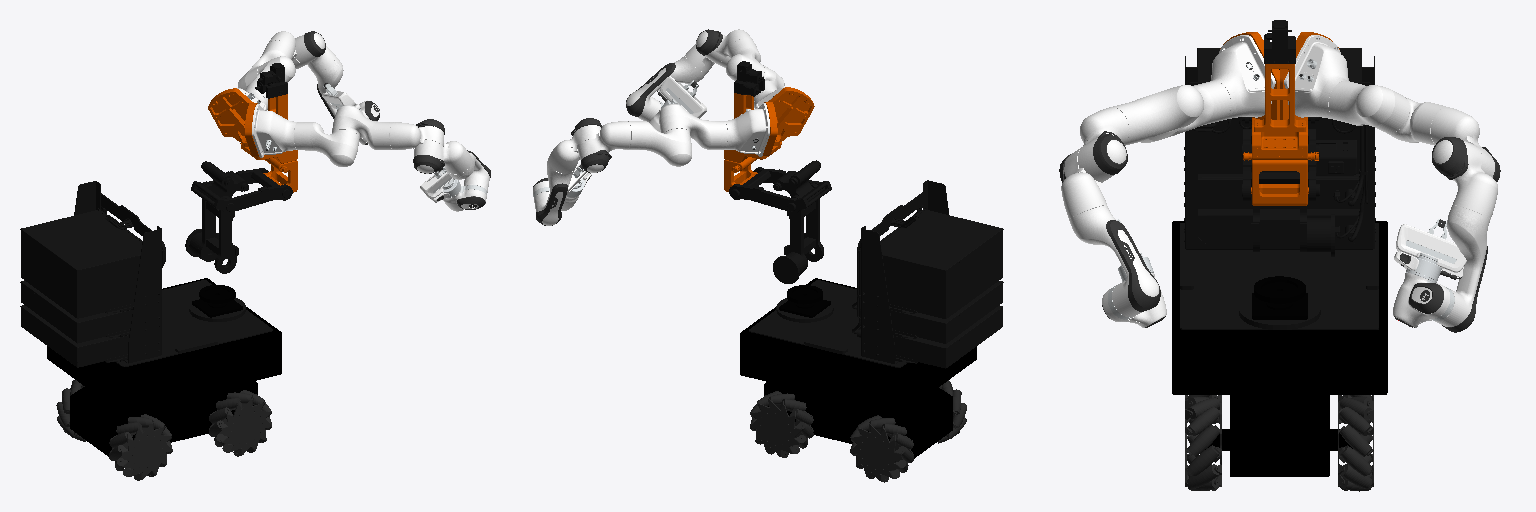
--- Render facts (derived) ---
The picture shows the robot from 3 angles, left to right: view 1: azimuth 30°, elevation 25°; view 2: azimuth 150°, elevation 25°; view 3: azimuth 270°, elevation 25°; orthographic projection.
Model curi with 40 links and 39 joints (14 revolute, 4 continuous, 4 prismatic, 16 fixed, 1 floating), rooted at world, posed all joints at 0 but 2 set to mid-range because 0 is outside their limits (panda_left_joint4 = -1.57, panda_right_joint4 = -1.57).
Visible links, largest first — view 1: control_box, summit_xls_base_link, torso_end, summit_xls_back_right_wheel_link, summit_xls_front_right_wheel_link, torso_link_b2, torso_link_c1, panda_right_link1, panda_right_link0, panda_right_link4, panda_right_link2, panda_right_link3 (+9 smaller); view 2: control_box, summit_xls_base_link, torso_end, summit_xls_back_left_wheel_link, summit_xls_front_left_wheel_link, torso_link_b2, torso_link_c1, panda_left_link2, panda_right_link5, panda_left_link1, panda_left_link0, panda_left_link3 (+8 smaller); view 3: control_box, summit_xls_base_link, torso_end, panda_right_link5, panda_left_link5, panda_right_link0, panda_left_link0, summit_xls_front_right_wheel_link, panda_right_link2, panda_left_link4, summit_xls_front_left_wheel_link, panda_left_link1 (+13 smaller).
Link boxes in pixels (<box>): control_box: <box>20,181,272,367</box>; summit_xls_base_link: <box>47,278,281,456</box>; torso_end: <box>208,88,297,192</box>; summit_xls_back_right_wheel_link: <box>109,414,172,480</box>; summit_xls_front_right_wheel_link: <box>209,390,271,456</box>; torso_link_b2: <box>185,184,238,273</box>; torso_link_c1: <box>191,168,292,213</box>; panda_right_link1: <box>294,122,359,166</box>; panda_right_link0: <box>252,104,296,157</box>; panda_right_link4: <box>413,140,470,173</box>; panda_right_link2: <box>332,105,392,149</box>; panda_right_link3: <box>390,119,444,149</box>; control_box: <box>749,180,1003,368</box>; summit_xls_base_link: <box>740,278,976,458</box>; torso_end: <box>724,87,814,191</box>; summit_xls_back_left_wheel_link: <box>850,415,913,482</box>; summit_xls_front_left_wheel_link: <box>750,391,813,457</box>; torso_link_b2: <box>773,183,823,283</box>; torso_link_c1: <box>729,167,831,213</box>; panda_left_link2: <box>628,121,691,166</box>; panda_right_link5: <box>626,54,706,121</box>; panda_left_link1: <box>659,104,727,149</box>; panda_left_link0: <box>724,103,769,156</box>; panda_left_link3: <box>578,121,630,172</box>; control_box: <box>1180,48,1378,329</box>; summit_xls_base_link: <box>1172,221,1387,476</box>; torso_end: <box>1220,32,1339,205</box>; panda_right_link5: <box>1069,205,1160,316</box>; panda_left_link5: <box>1435,205,1489,332</box>; panda_right_link0: <box>1211,35,1275,119</box>; panda_left_link0: <box>1284,35,1348,119</box>; summit_xls_front_right_wheel_link: <box>1185,397,1221,490</box>; panda_right_link2: <box>1113,85,1203,145</box>; panda_left_link4: <box>1432,137,1497,219</box>; summit_xls_front_left_wheel_link: <box>1338,397,1373,491</box>; panda_left_link1: <box>1329,81,1409,132</box>.
Bounding box of the posed robot: 1.76 × 1.18 × 1.51 m (x, y, z).
Meshes: 24 distinct files referenced, 35 mesh visuals loaded (21 Collada DAE); not drawn: 3 (reference not matched to a file when rendering).

robot.urdf — curi:
<?xml version="1.0" ?>
<!-- =================================================================================== -->
<!-- |    This document was autogenerated by xacro from ../robots/curi.urdf.xacro      | -->
<!-- |    EDITING THIS FILE BY HAND IS NOT RECOMMENDED                                 | -->
<!-- =================================================================================== -->
<robot name="curi">
  <!-- in kg-->
  <!-- =============================================================== -->
  <!-- || This file does not contain official inertial properties   || -->
  <!-- || of panda robot. The values are from the identification    || -->
  <!-- || results published in: Identification of the Franka Emika  || -->
  <!-- || PandaRobot With Retrieval of Feasible Parameters Using    || -->
  <!-- || Penalty-Based Optimization                                || -->
  <!-- || by: Claudio Gaz, Marco Cognetti, Alexander Oliva,         || -->
  <!-- || Paolo Robuffo Giordano, Alessandro de Luca                || -->
  <!-- =============================================================== -->
  <link name="world"/>
  <joint name="reference" type="floating">
    <parent link="world"/>
    <child link="summit_xls_base_footprint"/>
  </joint>
  <link name="summit_xls_base_footprint">
    <visual>
      <origin rpy="0 0 0" xyz="0 0 0"/>
      <geometry>
        <box size="0.001 0.001 0.001"/>
      </geometry>
    </visual>
  </link>
  <joint name="summit_xls_base_footprint_joint" type="fixed">
    <origin rpy="0 0 0" xyz="0 0 0.127"/>
    <parent link="summit_xls_base_footprint"/>
    <child link="summit_xls_base_link"/>
  </joint>
  <!-- BASE_LINK -->
  <link name="summit_xls_base_link">
    <inertial>
      <mass value="125.0"/>
      <origin xyz="0 0 0"/>
      <inertia ixx="1.391" ixy="0.004" ixz="0.0" iyy="6.853" iyz="0.0" izz="6.125"/>
    </inertial>
    <visual>
      <origin rpy="0 0 0" xyz="0 0 0"/>
      <geometry>
        <mesh filename="../meshes/robotnik/bases/summit_xls_chassis.dae"/>
      </geometry>
      <material name="black">
        <color rgba="0.0 0.0 0.0 1"/>
      </material>
    </visual>
    <collision>
      <origin rpy="0 0 0 " xyz="0 0 0"/>
      <geometry>
        <mesh filename="../meshes/robotnik/bases/summit_xls_chassis.stl"/>
      </geometry>
    </collision>
  </link>
  <joint name="summit_xls_front_right_wheel_joint" type="continuous">
    <parent link="summit_xls_base_link"/>
    <child link="summit_xls_front_right_wheel_link"/>
    <origin rpy="0 0 0" xyz="0.2225 -0.2045 0.0"/>
    <axis rpy="0 0 0" xyz="0 1 0"/>
    <limit effort="100" velocity="100"/>
    <joint_properties damping="0.0" friction="0.0"/>
  </joint>
  <link name="summit_xls_front_right_wheel_link">
    <visual>
      <origin rpy="0 0 0" xyz="0 0 0"/>
      <geometry>
        <mesh filename="../meshes/robotnik/wheels/omni_wheel_2.dae"/>
      </geometry>
      <material name="darkgrey">
        <color rgba="0.2 0.2 0.2 1"/>
      </material>
    </visual>
    <collision>
      <origin rpy="1.5707963267948966 0 0" xyz="0 0 0"/>
      <geometry>
        <cylinder length="0.087" radius="0.127"/>
      </geometry>
    </collision>
    <inertial>
      <mass value="6.5"/>
      <origin xyz="0 0 0"/>
      <inertia ixx="0.0303095" ixy="0" ixz="0" iyy="0.05241925" iyz="0" izz="0.0303095"/>
    </inertial>
  </link>
  <joint name="summit_xls_front_left_wheel_joint" type="continuous">
    <parent link="summit_xls_base_link"/>
    <child link="summit_xls_front_left_wheel_link"/>
    <origin rpy="0 0 0" xyz="0.2225 0.2045 0.0"/>
    <axis rpy="0 0 0" xyz="0 1 0"/>
    <limit effort="100" velocity="100"/>
    <joint_properties damping="0.0" friction="0.0"/>
  </joint>
  <link name="summit_xls_front_left_wheel_link">
    <visual>
      <origin rpy="0 0 0" xyz="0 0 0"/>
      <geometry>
        <mesh filename="../meshes/robotnik/wheels/omni_wheel_1.dae"/>
      </geometry>
      <material name="darkgrey">
        <color rgba="0.2 0.2 0.2 1"/>
      </material>
    </visual>
    <collision>
      <origin rpy="1.5707963267948966 0 0" xyz="0 0 0"/>
      <geometry>
        <cylinder length="0.087" radius="0.127"/>
      </geometry>
    </collision>
    <inertial>
      <mass value="6.5"/>
      <origin xyz="0 0 0"/>
      <inertia ixx="0.0303095" ixy="0" ixz="0" iyy="0.05241925" iyz="0" izz="0.0303095"/>
    </inertial>
  </link>
  <joint name="summit_xls_back_left_wheel_joint" type="continuous">
    <parent link="summit_xls_base_link"/>
    <child link="summit_xls_back_left_wheel_link"/>
    <origin rpy="0 0 0" xyz="-0.2225 0.2045 0.0"/>
    <axis rpy="0 0 0" xyz="0 1 0"/>
    <limit effort="100" velocity="100"/>
    <joint_properties damping="0.0" friction="0.0"/>
  </joint>
  <link name="summit_xls_back_left_wheel_link">
    <visual>
      <origin rpy="0 0 0" xyz="0 0 0"/>
      <geometry>
        <mesh filename="../meshes/robotnik/wheels/omni_wheel_1.dae"/>
      </geometry>
      <material name="darkgrey">
        <color rgba="0.2 0.2 0.2 1"/>
      </material>
    </visual>
    <collision>
      <origin rpy="1.5707963267948966 0 0" xyz="0 0 0"/>
      <geometry>
        <cylinder length="0.087" radius="0.127"/>
      </geometry>
    </collision>
    <inertial>
      <mass value="6.5"/>
      <origin xyz="0 0 0"/>
      <inertia ixx="0.0303095" ixy="0" ixz="0" iyy="0.05241925" iyz="0" izz="0.0303095"/>
    </inertial>
  </link>
  <joint name="summit_xls_back_right_wheel_joint" type="continuous">
    <parent link="summit_xls_base_link"/>
    <child link="summit_xls_back_right_wheel_link"/>
    <origin rpy="0 0 0" xyz="-0.2225 -0.2045 0.0"/>
    <axis rpy="0 0 0" xyz="0 1 0"/>
    <limit effort="100" velocity="100"/>
    <joint_properties damping="0.0" friction="0.0"/>
  </joint>
  <link name="summit_xls_back_right_wheel_link">
    <visual>
      <origin rpy="0 0 0" xyz="0 0 0"/>
      <geometry>
        <mesh filename="../meshes/robotnik/wheels/omni_wheel_2.dae"/>
      </geometry>
      <material name="darkgrey">
        <color rgba="0.2 0.2 0.2 1"/>
      </material>
    </visual>
    <collision>
      <origin rpy="1.5707963267948966 0 0" xyz="0 0 0"/>
      <geometry>
        <cylinder length="0.087" radius="0.127"/>
      </geometry>
    </collision>
    <inertial>
      <mass value="6.5"/>
      <origin xyz="0 0 0"/>
      <inertia ixx="0.0303095" ixy="0" ixz="0" iyy="0.05241925" iyz="0" izz="0.0303095"/>
    </inertial>
  </link>
  <joint name="torso_joint_summit_xls_base_footprint" type="fixed">
    <parent link="summit_xls_base_footprint"/>
    <child link="control_box"/>
    <origin rpy="0 0 0" xyz="0 0 0.52262"/>
  </joint>
  <link name="control_box">
    <visual>
      <origin rpy="0 0 0" xyz="0 0 0"/>
      <geometry>
        <mesh filename="../meshes/clover/visual/control_box.dae"/>
      </geometry>
    </visual>
    <inertial>
      <!-- Estimated guesses from CAD -->
      <origin rpy="0 0 0" xyz="-0.221652 1.4173e-02 0.165597"/>
      <mass value="37.813"/>
      <inertia ixx="1.672305973" ixy="-0.023504956" ixz="-0.565170381" iyy="2.616747309" iyz="0.046623093" izz="2.524344244"/>
    </inertial>
  </link>
  <link name="torso_base1">
    <visual>
      <origin rpy="0 0 0" xyz="0 0 0"/>
      <geometry>
        <mesh filename="../meshes/clover/visual/torso_base1.dae"/>
      </geometry>
    </visual>
    <collision>
      <origin rpy="0 0 0" xyz="0 0 0"/>
      <geometry>
        <mesh filename="../meshes/clover/collision/torso_base1.stl"/>
      </geometry>
    </collision>
    <inertial>
      <origin rpy="0 0 0" xyz="0 0 0.02555"/>
      <mass value="1.18"/>
      <inertia ixx="0.00241116" ixy="0" ixz="0" iyy="0.00241116" iyz="0" izz="0.00362611"/>
    </inertial>
  </link>
  <joint name="torso_joint1" type="fixed">
    <origin rpy="0 0 0" xyz="0.2375 0 0.015"/>
    <parent link="control_box"/>
    <child link="torso_base1"/>
  </joint>
  <link name="torso_base2">
    <visual>
      <origin rpy="0 0 0" xyz="0 0 0"/>
      <geometry>
        <mesh filename="../meshes/clover/visual/torso_base2.dae"/>
      </geometry>
    </visual>
    <collision>
      <origin rpy="0 0 0" xyz="0 0 0"/>
      <geometry>
        <mesh filename="../meshes/clover/collision/torso_base2.stl"/>
      </geometry>
    </collision>
    <inertial>
      <origin rpy="0 0 0" xyz="-0.05478 0.03332 -0.07616"/>
      <mass value="35.66"/>
      <inertia ixx="0.87275935" ixy="-0.06173772" ixz="0.01895727" iyy="0.57302356" iyz="0.11888755" izz="1.06212354"/>
    </inertial>
  </link>
  <joint name="torso_actuated_joint1" type="fixed">
    <origin rpy="0 0 0" xyz="0 0 0.215"/>
    <parent link="torso_base1"/>
    <child link="torso_base2"/>
  </joint>
  <link name="torso_link_b2">
    <visual>
      <origin rpy="0 0 0" xyz="0 0 0"/>
      <geometry>
        <mesh filename="../meshes/clover/visual/torso_link_b2.dae"/>
      </geometry>
    </visual>
    <collision>
      <origin rpy="0 0 0" xyz="0 0 0"/>
      <geometry>
        <mesh filename="../meshes/clover/collision/torso_link_b2.stl"/>
      </geometry>
    </collision>
    <inertial>
      <origin rpy="0 0 0" xyz="2.066e-03 2.4036e-02 8.3361e-02"/>
      <mass value="2.698"/>
      <inertia ixx="0.035907338" ixy="-0.000134319" ixz="0.000037769" iyy="0.023944853" iyz="-0.005304362" izz="0.014484777"/>
    </inertial>
  </link>
  <joint name="torso_actuated_joint2" type="fixed">
    <origin rpy="0 0 0" xyz="0 0 0"/>
    <parent link="torso_base2"/>
    <child link="torso_link_b2"/>
  </joint>
  <link name="torso_middle">
    <visual>
      <origin rpy="0 0 0" xyz="0 0 0"/>
      <geometry>
        <mesh filename="../meshes/clover/visual/torso_middle.dae"/>
      </geometry>
    </visual>
    <collision>
      <origin rpy="0 0 0" xyz="0 0 0"/>
      <geometry>
        <mesh filename="../meshes/clover/collision/torso_middle.stl"/>
      </geometry>
    </collision>
    <inertial>
      <origin rpy="0 0 0" xyz="3.2089e-02 0 4.789e-02"/>
      <mass value="2.688"/>
      <inertia ixx="0.00744652" ixy="-0.00003495" ixz="0.000230038" iyy="0.006884728" iyz="0.000041279" izz="0.008084049"/>
    </inertial>
  </link>
  <joint name="torso_joint5" type="fixed">
    <origin rpy="0 0 0" xyz="0 0 0.25"/>
    <parent link="torso_link_b2"/>
    <child link="torso_middle"/>
  </joint>
  <link name="torso_link_c1">
    <visual>
      <origin rpy="0 0 0" xyz="0 0 0"/>
      <geometry>
        <mesh filename="../meshes/clover/visual/torso_link_c1.dae"/>
      </geometry>
    </visual>
    <collision>
      <origin rpy="0 0 0" xyz="0 0 0"/>
      <geometry>
        <mesh filename="../meshes/clover/collision/torso_link_c1.stl"/>
      </geometry>
    </collision>
    <inertial>
      <origin rpy="0 0 0" xyz="0.10533 1.503e-03 9.863e-03"/>
      <mass value="2.4"/>
      <inertia ixx="0.014986407" ixy="-1.7102e-05" ixz="-4.53321e-04" iyy="0.027549549" iyz="-3.557e-05" izz="0.041344611"/>
    </inertial>
  </link>
  <joint name="torso_actuated_joint3" type="fixed">
    <origin rpy="0 0 0" xyz="0 0 0"/>
    <parent link="torso_middle"/>
    <child link="torso_link_c1"/>
  </joint>
  <link name="torso_end">
    <visual>
      <origin rpy="0 0 0" xyz="0 0 0"/>
      <geometry>
        <mesh filename="../meshes/clover/visual/torso_end_v2.dae"/>
      </geometry>
    </visual>
    <collision>
      <origin rpy="0 0 0" xyz="0 0 0"/>
      <geometry>
        <mesh filename="../meshes/clover/collision/torso_end_v2.stl"/>
      </geometry>
    </collision>
    <inertial>
      <origin rpy="0 0 0" xyz="1.3086e-02 0.132e-03 0.184066"/>
      <mass value="12.083"/>
      <inertia ixx="0.146638956" ixy="-2.2432e-05" ixz="-0.012989506" iyy="0.097685785" iyz="-2.19304e-04" izz="0.100449047"/>
    </inertial>
  </link>
  <joint name="torso_joint8" type="fixed">
    <origin rpy="0 0 0" xyz="0.25 0 0"/>
    <parent link="torso_link_c1"/>
    <child link="torso_end"/>
  </joint>
  <link name="shell">
    <visual>
      <origin rpy="0 0 0" xyz="0 0 0"/>
      <geometry>
        <mesh filename="../meshes/clover/visual/Shell_v2_Share_zup.dae"/>
      </geometry>
    </visual>
    <collision>
      <origin rpy="0 0 0" xyz="0 0 0"/>
      <geometry>
        <mesh filename="../meshes/clover/collision/Shell_v2_Share_zup.STL"/>
      </geometry>
    </collision>
    <inertial>
      <origin rpy="0 0 0" xyz="-5.05e-03 -0.09e-03 0.27614"/>
      <mass value="1.63531"/>
      <inertia ixx="0.010693997" ixy="5.645e-06" ixz="-9.4779e-04" iyy="0.026717753" iyz="-8.196e-06" izz="0.036543169"/>
    </inertial>
  </link>
  <joint name="shell_torso_end" type="fixed">
    <parent link="torso_end"/>
    <child link="shell"/>
    <origin rpy="0 0 0" xyz="0 0 0"/>
  </joint>
  <joint name="head_joint_torso_end" type="fixed">
    <parent link="torso_end"/>
    <child link="head_base"/>
    <origin rpy="0 0 0" xyz="0.02 0 0.3929"/>
  </joint>
  <link name="head_base">
    <visual>
      <origin rpy="0 0 0" xyz="0 0 0"/>
      <geometry>
        <mesh filename="../meshes/clover/visual/head_base.dae"/>
      </geometry>
    </visual>
    <collision>
      <origin rpy="0 0 0" xyz="0 0 0"/>
      <geometry>
        <mesh filename="../meshes/clover/collision/head_base.stl"/>
      </geometry>
    </collision>
    <inertial>
      <!-- Estimated guesses from CAD -->
      <origin rpy="0 0 0" xyz="-1.9726e-02 1.281e-03 2.2693e-02"/>
      <mass value="0.803"/>
      <inertia ixx="6.56432e-04" ixy="-3.4976e-05" ixz="0.652e-6" iyy="6.42664e-04" iyz="-1.577e-06" izz="1.046862e-03"/>
    </inertial>
  </link>
  <joint name="head_actuated_joint1" type="fixed">
    <origin rpy="0 0 0" xyz="0 0 0.045"/>
    <parent link="head_base"/>
    <child link="head_link1"/>
  </joint>
  <link name="head_link1">
    <visual>
      <origin rpy="0 0 0" xyz="0 0 0"/>
      <geometry>
        <mesh filename="../meshes/clover/visual/head_link1.dae"/>
      </geometry>
    </visual>
    <collision>
      <origin rpy="0 0 0" xyz="0 0 0"/>
      <geometry>
        <mesh filename="../meshes/clover/collision/head_link1.stl"/>
      </geometry>
    </collision>
    <inertial>
      <!-- Estimated guesses from CAD -->
      <origin rpy="0 0 0" xyz="-1.8392e-02 -0.4e-03 2.8338e-02"/>
      <mass value="0.534"/>
      <inertia ixx="2.34142e-04" ixy="-3.129e-06" ixz="6.321e-05" iyy="5.09246e-04" iyz="1.49e-06" izz="4.3777e-04"/>
    </inertial>
  </link>
  <joint name="head_actuated_joint2" type="fixed">
    <origin rpy="0 0 0" xyz="0 0 0.043"/>
    <parent link="head_link1"/>
    <child link="head_link2"/>
  </joint>
  <link name="head_link2">
    <visual>
      <origin rpy="0 0 0" xyz="0 0 0"/>
      <geometry>
        <mesh filename="../meshes/clover/visual/head_link2.dae"/>
      </geometry>
    </visual>
    <collision>
      <origin rpy="0 0 0" xyz="0 0 0"/>
      <geometry>
        <mesh filename="../meshes/clover/collision/head_link2.stl"/>
      </geometry>
    </collision>
    <inertial>
      <!-- Estimated guesses from CAD -->
      <origin rpy="0 0 0" xyz="3.8624e-02 0 0.143829"/>
      <mass value="1.346"/>
      <inertia ixx="0.010306864" ixy="-5.953e-06" ixz="6.74795e-04" iyy="0.011632066" iyz="-1.125e-06" izz="0.009582498"/>
    </inertial>
  </link>
  <joint name="panda_left_joint_torso_end" type="fixed">
    <parent link="torso_end"/>
    <child link="panda_left_link0"/>
    <origin rpy="-1.3685238493647454 0.913218224774749 -0.6168337646727412" xyz="-0.08537 0.07009 0.2535"/>
  </joint>
  <link name="panda_left_link0">
    <visual>
      <origin rpy="0 0 0" xyz="0 0 0"/>
      <geometry>
        <mesh filename="../meshes/franka/visual/link0.dae"/>
      </geometry>
    </visual>
    <collision>
      <origin rpy="0 0 0" xyz="0 0 0"/>
      <geometry>
        <mesh filename="../meshes/franka/collision/link0.stl"/>
      </geometry>
    </collision>
    <inertial>
      <!-- Estimated guesses from CAD -->
      <origin rpy="0 0 0" xyz="-0.041018 -0.00014 0.049974"/>
      <mass value="0.629769"/>
      <inertia ixx="0.00315" ixy="8.2904E-07" ixz="0.00015" iyy="0.00388" iyz="8.2299E-06" izz="0.004285"/>
    </inertial>
  </link>
  <link name="panda_left_link1">
    <visual>
      <origin rpy="0 0 0" xyz="0 0 0"/>
      <geometry>
        <mesh filename="../meshes/franka/visual/link1.dae"/>
      </geometry>
    </visual>
    <collision>
      <origin rpy="0 0 0" xyz="0 0 0"/>
      <geometry>
        <mesh filename="../meshes/franka/collision/link1.stl"/>
      </geometry>
    </collision>
    <inertial>
      <origin rpy="0 0 0" xyz="0.003875 0.002081 -0.04762"/>
      <mass value="4.970684"/>
      <inertia ixx="0.70337" ixy="-0.00013900" ixz="0.0067720" iyy="0.70661" iyz="0.019169" izz="0.0091170"/>
    </inertial>
  </link>
  <joint name="panda_left_joint1" type="revolute">
    <safety_controller k_position="100.0" k_velocity="40.0" soft_lower_limit="-2.8973" soft_upper_limit="2.8973"/>
    <origin rpy="0 0 0" xyz="0 0 0.333"/>
    <parent link="panda_left_link0"/>
    <child link="panda_left_link1"/>
    <axis xyz="0 0 1"/>
    <limit acceleration="15" effort="87" lower="-2.8973" upper="2.8973" velocity="2.1750"/>
    <dynamics D="1" K="7000" damping="0.003" friction="0.0" mu_coulomb="0" mu_viscous="16"/>
  </joint>
  <link name="panda_left_link2">
    <visual>
      <origin rpy="0 0 0" xyz="0 0 0"/>
      <geometry>
        <mesh filename="../meshes/franka/visual/link2.dae"/>
      </geometry>
    </visual>
    <collision>
      <origin rpy="0 0 0" xyz="0 0 0"/>
      <geometry>
        <mesh filename="../meshes/franka/collision/link2.stl"/>
      </geometry>
    </collision>
    <inertial>
      <origin rpy="0 0 0" xyz=" -0.003141 -0.02872  0.003495"/>
      <mass value="0.646926"/>
      <inertia ixx="0.0079620" ixy="-3.9250e-3" ixz="1.0254e-02" iyy="2.8110e-02" iyz="7.0400e-04" izz="2.5995e-02"/>
    </inertial>
  </link>
  <joint name="panda_left_joint2" type="revolute">
    <safety_controller k_position="100.0" k_velocity="40.0" soft_lower_limit="-1.7628" soft_upper_limit="1.7628"/>
    <origin rpy="-1.5707963267948966 0 0" xyz="0 0 0"/>
    <parent link="panda_left_link1"/>
    <child link="panda_left_link2"/>
    <axis xyz="0 0 1"/>
    <limit acceleration="7.5" effort="87" lower="-1.7628" upper="1.7628" velocity="2.1750"/>
    <dynamics D="1" K="7000" damping="0.003" friction="0.0" mu_coulomb="0" mu_viscous="16"/>
  </joint>
  <link name="panda_left_link3">
    <visual>
      <origin rpy="0 0 0" xyz="0 0 0"/>
      <geometry>
        <mesh filename="../meshes/franka/visual/link3.dae"/>
      </geometry>
    </visual>
    <collision>
      <origin rpy="0 0 0" xyz="0 0 0"/>
      <geometry>
        <mesh filename="../meshes/franka/collision/link3.stl"/>
      </geometry>
    </collision>
    <inertial>
      <origin rpy="0 0 0" xyz="2.7518e-02 3.9252e-02 -6.6502e-02"/>
      <mass value="3.228604"/>
      <inertia ixx="3.7242e-02" ixy="-4.7610e-03" ixz="-1.1396e-02" iyy="3.6155e-02" iyz="-1.2805e-02" izz="1.0830e-02"/>
    </inertial>
  </link>
  <joint name="panda_left_joint3" type="revolute">
    <safety_controller k_position="100.0" k_velocity="40.0" soft_lower_limit="-2.8973" soft_upper_limit="2.8973"/>
    <origin rpy="1.5707963267948966 0 0" xyz="0 -0.316 0"/>
    <parent link="panda_left_link2"/>
    <child link="panda_left_link3"/>
    <axis xyz="0 0 1"/>
    <limit acceleration="12.5" effort="87" lower="-2.8973" upper="2.8973" velocity="2.1750"/>
    <dynamics D="1" K="7000" damping="0.003" friction="0.0" mu_coulomb="0" mu_viscous="16"/>
  </joint>
  <link name="panda_left_link4">
    <visual>
      <origin rpy="0 0 0" xyz="0 0 0"/>
      <geometry>
        <mesh filename="../meshes/franka/visual/link4.dae"/>
      </geometry>
    </visual>
    <collision>
      <origin rpy="0 0 0" xyz="0 0 0"/>
      <geometry>
        <mesh filename="../meshes/franka/collision/link4.stl"/>
      </geometry>
    </collision>
    <inertial>
      <origin rpy="0 0 0" xyz="-5.317e-02 1.04419e-01 2.7454e-02"/>
      <mass value="3.587895"/>
      <inertia ixx="2.5853e-02" ixy="7.7960e-03" ixz="-1.3320e-03" iyy="1.9552e-02" iyz="8.6410e-03" izz="2.8323e-02"/>
    </inertial>
  </link>
  <joint name="panda_left_joint4" type="revolute">
    <safety_controller k_position="100.0" k_velocity="40.0" soft_lower_limit="-3.0718" soft_upper_limit="-0.0698"/>
    <origin rpy="1.5707963267948966 0 0" xyz="0.0825 0 0"/>
    <parent link="panda_left_link3"/>
    <child link="panda_left_link4"/>
    <axis xyz="0 0 1"/>
    <limit acceleration="12.5" effort="87" lower="-3.0718" upper="-0.0698" velocity="2.1750"/>
    <dynamics D="1" K="7000" damping="0.003" friction="0.0" mu_coulomb="0" mu_viscous="16"/>
  </joint>
  <link name="panda_left_link5">
    <visual>
      <origin rpy="0 0 0" xyz="0 0 0"/>
      <geometry>
        <mesh filename="../meshes/franka/visual/link5.dae"/>
      </geometry>
    </visual>
    <collision>
      <origin rpy="0 0 0" xyz="0 0 0"/>
      <geometry>
        <mesh filename="../meshes/franka/collision/link5.stl"/>
      </geometry>
    </collision>
    <inertial>
      <origin rpy="0 0 0" xyz="-1.1953e-02 4.1065e-02 -3.8437e-02"/>
      <mass value="1.225946"/>
      <inertia ixx="3.5549e-02" ixy="-2.1170e-03" ixz="-4.0370e-03" iyy="2.9474e-02" iyz="2.2900e-04" izz="8.6270e-03"/>
    </inertial>
  </link>
  <joint name="panda_left_joint5" type="revolute">
    <safety_controller k_position="100.0" k_velocity="40.0" soft_lower_limit="-2.8973" soft_upper_limit="2.8973"/>
    <origin rpy="-1.5707963267948966 0 0" xyz="-0.0825 0.384 0"/>
    <parent link="panda_left_link4"/>
    <child link="panda_left_link5"/>
    <axis xyz="0 0 1"/>
    <limit acceleration="15" effort="12" lower="-2.8973" upper="2.8973" velocity="2.6100"/>
    <dynamics D="1" K="7000" damping="0.003" friction="0.0" mu_coulomb="0" mu_viscous="16"/>
  </joint>
  <link name="panda_left_link6">
    <visual>
      <origin rpy="0 0 0" xyz="0 0 0"/>
      <geometry>
        <mesh filename="../meshes/franka/visual/link6.dae"/>
      </geometry>
    </visual>
    <collision>
      <origin rpy="0 0 0" xyz="0 0 0"/>
      <geometry>
        <mesh filename="../meshes/franka/collision/link6.stl"/>
      </geometry>
    </collision>
    <inertial>
      <origin rpy="0 0 0" xyz="6.0149e-02 -1.4117e-02 -1.0517e-02"/>
      <mass value="1.666555"/>
      <inertia ixx="1.9640e-03" ixy="1.0900e-04" ixz="-1.1580e-03" iyy="4.3540e-03" iyz="3.4100e-04" izz="5.4330e-03"/>
    </inertial>
  </link>
  <joint name="panda_left_joint6" type="revolute">
    <safety_controller k_position="100.0" k_velocity="40.0" soft_lower_limit="-0.0175" soft_upper_limit="3.7525"/>
    <origin rpy="1.5707963267948966 0 0" xyz="0 0 0"/>
    <parent link="panda_left_link5"/>
    <child link="panda_left_link6"/>
    <axis xyz="0 0 1"/>
    <limit acceleration="20" effort="12" lower="-0.0175" upper="3.7525" velocity="2.6100"/>
    <dynamics D="1" K="7000" damping="0.003" friction="0.0" mu_coulomb="0" mu_viscous="16"/>
  </joint>
  <link name="panda_left_link7">
    <visual>
      <origin rpy="0 0 0" xyz="0 0 0"/>
      <geometry>
        <mesh filename="../meshes/franka/visual/link7.dae"/>
      </geometry>
    </visual>
    <collision>
      <origin rpy="0 0 0" xyz="0 0 0"/>
      <geometry>
        <mesh filename="../meshes/franka/collision/link7.stl"/>
      </geometry>
    </collision>
    <inertial>
      <origin rpy="0 0 0" xyz="1.0517e-02 -4.252e-03 6.1597e-02"/>
      <mass value="7.35522e-01"/>
      <inertia ixx="1.2516e-02" ixy="-4.2800e-04" ixz="-1.1960e-03" iyy="1.0027e-02" iyz="-7.4100e-04" izz="4.8150e-03"/>
    </inertial>
  </link>
  <joint name="panda_left_joint7" type="revolute">
    <safety_controller k_position="100.0" k_velocity="40.0" soft_lower_limit="-2.8973" soft_upper_limit="2.8973"/>
    <origin rpy="1.5707963267948966 0 0" xyz="0.088 0 0"/>
    <parent link="panda_left_link6"/>
    <child link="panda_left_link7"/>
    <axis xyz="0 0 1"/>
    <limit acceleration="20" effort="12" lower="-2.8973" upper="2.8973" velocity="2.6100"/>
    <dynamics D="1" K="7000" damping="0.003" friction="0.0" mu_coulomb="0" mu_viscous="16"/>
  </joint>
  <joint name="panda_right_joint_torso_end" type="fixed">
    <parent link="torso_end"/>
    <child link="panda_right_link0"/>
    <origin rpy="1.3685238493647454 0.913218224774749 0.6168337646727412" xyz="-0.08537 -0.07009 0.2535"/>
  </joint>
  <link name="panda_right_link0">
    <visual>
      <origin rpy="0 0 0" xyz="0 0 0"/>
      <geometry>
        <mesh filename="../meshes/franka/visual/link0.dae"/>
      </geometry>
    </visual>
    <collision>
      <origin rpy="0 0 0" xyz="0 0 0"/>
      <geometry>
        <mesh filename="../meshes/franka/collision/link0.stl"/>
      </geometry>
    </collision>
    <inertial>
      <!-- Estimated guesses from CAD -->
      <origin rpy="0 0 0" xyz="-0.041018 -0.00014 0.049974"/>
      <mass value="0.629769"/>
      <inertia ixx="0.00315" ixy="8.2904E-07" ixz="0.00015" iyy="0.00388" iyz="8.2299E-06" izz="0.004285"/>
    </inertial>
  </link>
  <link name="panda_right_link1">
    <visual>
      <origin rpy="0 0 0" xyz="0 0 0"/>
      <geometry>
        <mesh filename="../meshes/franka/visual/link1.dae"/>
      </geometry>
    </visual>
    <collision>
      <origin rpy="0 0 0" xyz="0 0 0"/>
      <geometry>
        <mesh filename="../meshes/franka/collision/link1.stl"/>
      </geometry>
    </collision>
    <inertial>
      <origin rpy="0 0 0" xyz="0.003875 0.002081 -0.04762"/>
      <mass value="4.970684"/>
      <inertia ixx="0.70337" ixy="-0.00013900" ixz="0.0067720" iyy="0.70661" iyz="0.019169" izz="0.0091170"/>
    </inertial>
  </link>
  <joint name="panda_right_joint1" type="revolute">
    <safety_controller k_position="100.0" k_velocity="40.0" soft_lower_limit="-2.8973" soft_upper_limit="2.8973"/>
    <origin rpy="0 0 0" xyz="0 0 0.333"/>
    <parent link="panda_right_link0"/>
    <child link="panda_right_link1"/>
    <axis xyz="0 0 1"/>
    <limit acceleration="15" effort="87" lower="-2.8973" upper="2.8973" velocity="2.1750"/>
    <dynamics D="1" K="7000" damping="0.003" friction="0.0" mu_coulomb="0" mu_viscous="16"/>
  </joint>
  <link name="panda_right_link2">
    <visual>
      <origin rpy="0 0 0" xyz="0 0 0"/>
      <geometry>
        <mesh filename="../meshes/franka/visual/link2.dae"/>
      </geometry>
    </visual>
    <collision>
      <origin rpy="0 0 0" xyz="0 0 0"/>
      <geometry>
        <mesh filename="../meshes/franka/collision/link2.stl"/>
      </geometry>
    </collision>
    <inertial>
      <origin rpy="0 0 0" xyz=" -0.003141 -0.02872  0.003495"/>
      <mass value="0.646926"/>
      <inertia ixx="0.0079620" ixy="-3.9250e-3" ixz="1.0254e-02" iyy="2.8110e-02" iyz="7.0400e-04" izz="2.5995e-02"/>
    </inertial>
  </link>
  <joint name="panda_right_joint2" type="revolute">
    <safety_controller k_position="100.0" k_velocity="40.0" soft_lower_limit="-1.7628" soft_upper_limit="1.7628"/>
    <origin rpy="-1.5707963267948966 0 0" xyz="0 0 0"/>
    <parent link="panda_right_link1"/>
    <child link="panda_right_link2"/>
    <axis xyz="0 0 1"/>
    <limit acceleration="7.5" effort="87" lower="-1.7628" upper="1.7628" velocity="2.1750"/>
    <dynamics D="1" K="7000" damping="0.003" friction="0.0" mu_coulomb="0" mu_viscous="16"/>
  </joint>
  <link name="panda_right_link3">
    <visual>
      <origin rpy="0 0 0" xyz="0 0 0"/>
      <geometry>
        <mesh filename="../meshes/franka/visual/link3.dae"/>
      </geometry>
    </visual>
    <collision>
      <origin rpy="0 0 0" xyz="0 0 0"/>
      <geometry>
        <mesh filename="../meshes/franka/collision/link3.stl"/>
      </geometry>
    </collision>
    <inertial>
      <origin rpy="0 0 0" xyz="2.7518e-02 3.9252e-02 -6.6502e-02"/>
      <mass value="3.228604"/>
      <inertia ixx="3.7242e-02" ixy="-4.7610e-03" ixz="-1.1396e-02" iyy="3.6155e-02" iyz="-1.2805e-02" izz="1.0830e-02"/>
    </inertial>
  </link>
  <joint name="panda_right_joint3" type="revolute">
    <safety_controller k_position="100.0" k_velocity="40.0" soft_lower_limit="-2.8973" soft_upper_limit="2.8973"/>
    <origin rpy="1.5707963267948966 0 0" xyz="0 -0.316 0"/>
    <parent link="panda_right_link2"/>
    <child link="panda_right_link3"/>
    <axis xyz="0 0 1"/>
    <limit acceleration="12.5" effort="87" lower="-2.8973" upper="2.8973" velocity="2.1750"/>
    <dynamics D="1" K="7000" damping="0.003" friction="0.0" mu_coulomb="0" mu_viscous="16"/>
  </joint>
  <link name="panda_right_link4">
    <visual>
      <origin rpy="0 0 0" xyz="0 0 0"/>
      <geometry>
        <mesh filename="../meshes/franka/visual/link4.dae"/>
      </geometry>
    </visual>
    <collision>
      <origin rpy="0 0 0" xyz="0 0 0"/>
      <geometry>
        <mesh filename="../meshes/franka/collision/link4.stl"/>
      </geometry>
    </collision>
    <inertial>
      <origin rpy="0 0 0" xyz="-5.317e-02 1.04419e-01 2.7454e-02"/>
      <mass value="3.587895"/>
      <inertia ixx="2.5853e-02" ixy="7.7960e-03" ixz="-1.3320e-03" iyy="1.9552e-02" iyz="8.6410e-03" izz="2.8323e-02"/>
    </inertial>
  </link>
  <joint name="panda_right_joint4" type="revolute">
    <safety_controller k_position="100.0" k_velocity="40.0" soft_lower_limit="-3.0718" soft_upper_limit="-0.0698"/>
    <origin rpy="1.5707963267948966 0 0" xyz="0.0825 0 0"/>
    <parent link="panda_right_link3"/>
    <child link="panda_right_link4"/>
    <axis xyz="0 0 1"/>
    <limit acceleration="12.5" effort="87" lower="-3.0718" upper="-0.0698" velocity="2.1750"/>
    <dynamics D="1" K="7000" damping="0.003" friction="0.0" mu_coulomb="0" mu_viscous="16"/>
  </joint>
  <link name="panda_right_link5">
    <visual>
      <origin rpy="0 0 0" xyz="0 0 0"/>
      <geometry>
        <mesh filename="../meshes/franka/visual/link5.dae"/>
      </geometry>
    </visual>
    <collision>
      <origin rpy="0 0 0" xyz="0 0 0"/>
      <geometry>
        <mesh filename="../meshes/franka/collision/link5.stl"/>
      </geometry>
    </collision>
    <inertial>
      <origin rpy="0 0 0" xyz="-1.1953e-02 4.1065e-02 -3.8437e-02"/>
      <mass value="1.225946"/>
      <inertia ixx="3.5549e-02" ixy="-2.1170e-03" ixz="-4.0370e-03" iyy="2.9474e-02" iyz="2.2900e-04" izz="8.6270e-03"/>
    </inertial>
  </link>
  <joint name="panda_right_joint5" type="revolute">
    <safety_controller k_position="100.0" k_velocity="40.0" soft_lower_limit="-2.8973" soft_upper_limit="2.8973"/>
    <origin rpy="-1.5707963267948966 0 0" xyz="-0.0825 0.384 0"/>
    <parent link="panda_right_link4"/>
    <child link="panda_right_link5"/>
    <axis xyz="0 0 1"/>
    <limit acceleration="15" effort="12" lower="-2.8973" upper="2.8973" velocity="2.6100"/>
    <dynamics D="1" K="7000" damping="0.003" friction="0.0" mu_coulomb="0" mu_viscous="16"/>
  </joint>
  <link name="panda_right_link6">
    <visual>
      <origin rpy="0 0 0" xyz="0 0 0"/>
      <geometry>
        <mesh filename="../meshes/franka/visual/link6.dae"/>
      </geometry>
    </visual>
    <collision>
      <origin rpy="0 0 0" xyz="0 0 0"/>
      <geometry>
        <mesh filename="../meshes/franka/collision/link6.stl"/>
      </geometry>
    </collision>
    <inertial>
      <origin rpy="0 0 0" xyz="6.0149e-02 -1.4117e-02 -1.0517e-02"/>
      <mass value="1.666555"/>
      <inertia ixx="1.9640e-03" ixy="1.0900e-04" ixz="-1.1580e-03" iyy="4.3540e-03" iyz="3.4100e-04" izz="5.4330e-03"/>
    </inertial>
  </link>
  <joint name="panda_right_joint6" type="revolute">
    <safety_controller k_position="100.0" k_velocity="40.0" soft_lower_limit="-0.0175" soft_upper_limit="3.7525"/>
    <origin rpy="1.5707963267948966 0 0" xyz="0 0 0"/>
    <parent link="panda_right_link5"/>
    <child link="panda_right_link6"/>
    <axis xyz="0 0 1"/>
    <limit acceleration="20" effort="12" lower="-0.0175" upper="3.7525" velocity="2.6100"/>
    <dynamics D="1" K="7000" damping="0.003" friction="0.0" mu_coulomb="0" mu_viscous="16"/>
  </joint>
  <link name="panda_right_link7">
    <visual>
      <origin rpy="0 0 0" xyz="0 0 0"/>
      <geometry>
        <mesh filename="../meshes/franka/visual/link7.dae"/>
      </geometry>
    </visual>
    <collision>
      <origin rpy="0 0 0" xyz="0 0 0"/>
      <geometry>
        <mesh filename="../meshes/franka/collision/link7.stl"/>
      </geometry>
    </collision>
    <inertial>
      <origin rpy="0 0 0" xyz="1.0517e-02 -4.252e-03 6.1597e-02"/>
      <mass value="7.35522e-01"/>
      <inertia ixx="1.2516e-02" ixy="-4.2800e-04" ixz="-1.1960e-03" iyy="1.0027e-02" iyz="-7.4100e-04" izz="4.8150e-03"/>
    </inertial>
  </link>
  <joint name="panda_right_joint7" type="revolute">
    <safety_controller k_position="100.0" k_velocity="40.0" soft_lower_limit="-2.8973" soft_upper_limit="2.8973"/>
    <origin rpy="1.5707963267948966 0 0" xyz="0.088 0 0"/>
    <parent link="panda_right_link6"/>
    <child link="panda_right_link7"/>
    <axis xyz="0 0 1"/>
    <limit acceleration="20" effort="12" lower="-2.8973" upper="2.8973" velocity="2.6100"/>
    <dynamics D="1" K="7000" damping="0.003" friction="0.0" mu_coulomb="0" mu_viscous="16"/>
  </joint>
  <joint name="panda_left_hand_joint" type="fixed">
    <parent link="panda_left_link7"/>
    <child link="panda_left_hand"/>
    <origin rpy="0 0 -0.7853981633974483" xyz="0 0 0.107"/>
  </joint>
  <link name="panda_left_hand">
    <visual>
      <geometry>
        <mesh filename="../meshes/franka/visual/hand.dae"/>
      </geometry>
    </visual>
    <collision>
      <geometry>
        <mesh filename="../meshes/franka/collision/hand.stl"/>
      </geometry>
    </collision>
    <inertial>
      <mass value="0.73"/>
      <origin xyz="-0.01 0 0.03"/>
      <inertia ixx="0.001" ixy="0" ixz="0" iyy="0.0025" iyz="0" izz="0.0017"/>
    </inertial>
  </link>
  <link name="panda_left_leftfinger">
    <inertial>
      <mass value="0.015"/>
      <inertia ixx="2.3749999999999997e-06" ixy="0" ixz="0" iyy="2.3749999999999997e-06" iyz="0" izz="7.5e-07"/>
    </inertial>
    <visual>
      <geometry>
        <mesh filename="../meshes/franka/visual/finger.dae"/>
      </geometry>
    </visual>
    <!-- screw mount -->
    <collision>
      <origin rpy="0 0 0" xyz="0 +18.5e-3 11e-3"/>
      <geometry>
        <box size="22e-3 15e-3 20e-3"/>
      </geometry>
    </collision>
    <!-- cartriage sledge -->
    <collision>
      <origin rpy="0 0 0" xyz="0 +6.8e-3 2.2e-3"/>
      <geometry>
        <box size="22e-3 8.8e-3 3.8e-3"/>
      </geometry>
    </collision>
    <!-- diagonal finger -->
    <collision>
      <origin rpy="+0.5235987755982988 0 0" xyz="0 +15.9e-3 28.35e-3"/>
      <geometry>
        <box size="17.5e-3 7e-3 23.5e-3"/>
      </geometry>
    </collision>
    <!-- rubber tip with which to grasp -->
    <collision>
      <origin rpy="0 0 0" xyz="0 +7.58e-3 45.25e-3"/>
      <geometry>
        <box size="17.5e-3 15.2e-3 18.5e-3"/>
      </geometry>
    </collision>
  </link>
  <link name="panda_left_rightfinger">
    <inertial>
      <mass value="0.015"/>
      <inertia ixx="2.3749999999999997e-06" ixy="0" ixz="0" iyy="2.3749999999999997e-06" iyz="0" izz="7.5e-07"/>
    </inertial>
    <visual>
      <origin rpy="0 0 3.141592653589793" xyz="0 0 0"/>
      <geometry>
        <mesh filename="../meshes/franka/visual/finger.dae"/>
      </geometry>
    </visual>
    <!-- screw mount -->
    <collision>
      <origin rpy="0 0 0" xyz="0 -18.5e-3 11e-3"/>
      <geometry>
        <box size="22e-3 15e-3 20e-3"/>
      </geometry>
    </collision>
    <!-- cartriage sledge -->
    <collision>
      <origin rpy="0 0 0" xyz="0 -6.8e-3 2.2e-3"/>
      <geometry>
        <box size="22e-3 8.8e-3 3.8e-3"/>
      </geometry>
    </collision>
    <!-- diagonal finger -->
    <collision>
      <origin rpy="-0.5235987755982988 0 0" xyz="0 -15.9e-3 28.35e-3"/>
      <geometry>
        <box size="17.5e-3 7e-3 23.5e-3"/>
      </geometry>
    </collision>
    <!-- rubber tip with which to grasp -->
    <collision>
      <origin rpy="0 0 0" xyz="0 -7.58e-3 45.25e-3"/>
      <geometry>
        <box size="17.5e-3 15.2e-3 18.5e-3"/>
      </geometry>
    </collision>
  </link>
  <joint name="panda_left_finger_joint1" type="prismatic">
    <parent link="panda_left_hand"/>
    <child link="panda_left_leftfinger"/>
    <origin rpy="0 0 0" xyz="0 0 0.0584"/>
    <axis xyz="0 1 0"/>
    <limit effort="100" lower="0.0" upper="0.04" velocity="0.2"/>
    <dynamics damping="0.03" friction="0.0"/>
  </joint>
  <joint name="panda_left_finger_joint2" type="prismatic">
    <parent link="panda_left_hand"/>
    <child link="panda_left_rightfinger"/>
    <origin rpy="0 0 0" xyz="0 0 0.0584"/>
    <axis xyz="0 -1 0"/>
    <limit effort="100" lower="0.0" upper="0.04" velocity="0.2"/>
    <dynamics damping="0.03" friction="0.0"/>
    <mimic joint="panda_left_finger_joint1"/>
  </joint>
  <joint name="panda_right_hand_joint" type="fixed">
    <parent link="panda_right_link7"/>
    <child link="panda_right_hand"/>
    <origin rpy="0 0 -0.7853981633974483" xyz="0 0 0.107"/>
  </joint>
  <link name="panda_right_hand">
    <visual>
      <geometry>
        <mesh filename="../meshes/franka/visual/hand.dae"/>
      </geometry>
    </visual>
    <collision>
      <geometry>
        <mesh filename="../meshes/franka/collision/hand.stl"/>
      </geometry>
    </collision>
    <inertial>
      <mass value="0.73"/>
      <origin xyz="-0.01 0 0.03"/>
      <inertia ixx="0.001" ixy="0" ixz="0" iyy="0.0025" iyz="0" izz="0.0017"/>
    </inertial>
  </link>
  <link name="panda_right_leftfinger">
    <inertial>
      <mass value="0.015"/>
      <inertia ixx="2.3749999999999997e-06" ixy="0" ixz="0" iyy="2.3749999999999997e-06" iyz="0" izz="7.5e-07"/>
    </inertial>
    <visual>
      <geometry>
        <mesh filename="../meshes/franka/visual/finger.dae"/>
      </geometry>
    </visual>
    <!-- screw mount -->
    <collision>
      <origin rpy="0 0 0" xyz="0 +18.5e-3 11e-3"/>
      <geometry>
        <box size="22e-3 15e-3 20e-3"/>
      </geometry>
    </collision>
    <!-- cartriage sledge -->
    <collision>
      <origin rpy="0 0 0" xyz="0 +6.8e-3 2.2e-3"/>
      <geometry>
        <box size="22e-3 8.8e-3 3.8e-3"/>
      </geometry>
    </collision>
    <!-- diagonal finger -->
    <collision>
      <origin rpy="+0.5235987755982988 0 0" xyz="0 +15.9e-3 28.35e-3"/>
      <geometry>
        <box size="17.5e-3 7e-3 23.5e-3"/>
      </geometry>
    </collision>
    <!-- rubber tip with which to grasp -->
    <collision>
      <origin rpy="0 0 0" xyz="0 +7.58e-3 45.25e-3"/>
      <geometry>
        <box size="17.5e-3 15.2e-3 18.5e-3"/>
      </geometry>
    </collision>
  </link>
  <link name="panda_right_rightfinger">
    <inertial>
      <mass value="0.015"/>
      <inertia ixx="2.3749999999999997e-06" ixy="0" ixz="0" iyy="2.3749999999999997e-06" iyz="0" izz="7.5e-07"/>
    </inertial>
    <visual>
      <origin rpy="0 0 3.141592653589793" xyz="0 0 0"/>
      <geometry>
        <mesh filename="../meshes/franka/visual/finger.dae"/>
      </geometry>
    </visual>
    <!-- screw mount -->
    <collision>
      <origin rpy="0 0 0" xyz="0 -18.5e-3 11e-3"/>
      <geometry>
        <box size="22e-3 15e-3 20e-3"/>
      </geometry>
    </collision>
    <!-- cartriage sledge -->
    <collision>
      <origin rpy="0 0 0" xyz="0 -6.8e-3 2.2e-3"/>
      <geometry>
        <box size="22e-3 8.8e-3 3.8e-3"/>
      </geometry>
    </collision>
    <!-- diagonal finger -->
    <collision>
      <origin rpy="-0.5235987755982988 0 0" xyz="0 -15.9e-3 28.35e-3"/>
      <geometry>
        <box size="17.5e-3 7e-3 23.5e-3"/>
      </geometry>
    </collision>
    <!-- rubber tip with which to grasp -->
    <collision>
      <origin rpy="0 0 0" xyz="0 -7.58e-3 45.25e-3"/>
      <geometry>
        <box size="17.5e-3 15.2e-3 18.5e-3"/>
      </geometry>
    </collision>
  </link>
  <joint name="panda_right_finger_joint1" type="prismatic">
    <parent link="panda_right_hand"/>
    <child link="panda_right_leftfinger"/>
    <origin rpy="0 0 0" xyz="0 0 0.0584"/>
    <axis xyz="0 1 0"/>
    <limit effort="100" lower="0.0" upper="0.04" velocity="0.2"/>
    <dynamics damping="0.03" friction="0.0"/>
  </joint>
  <joint name="panda_right_finger_joint2" type="prismatic">
    <parent link="panda_right_hand"/>
    <child link="panda_right_rightfinger"/>
    <origin rpy="0 0 0" xyz="0 0 0.0584"/>
    <axis xyz="0 -1 0"/>
    <limit effort="100" lower="0.0" upper="0.04" velocity="0.2"/>
    <dynamics damping="0.03" friction="0.0"/>
    <mimic joint="panda_right_finger_joint1"/>
  </joint>
</robot>
